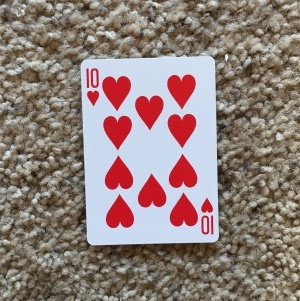card: (78, 54, 221, 247)
